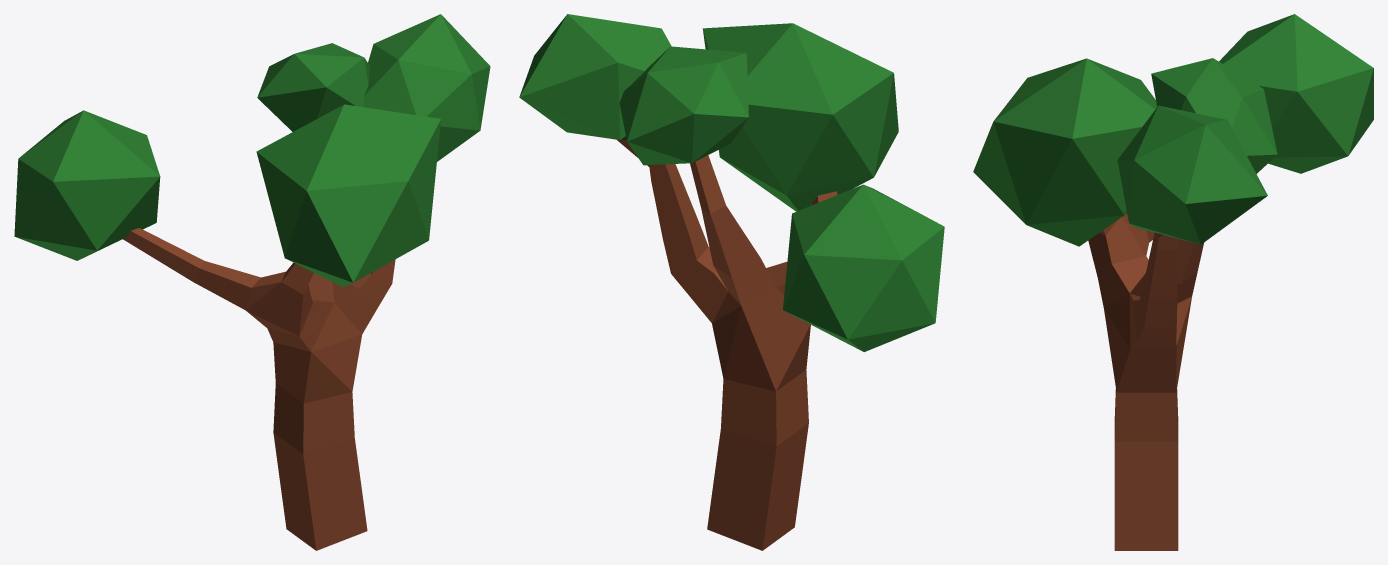
File: LowTree2.glb
3 views of the same model, side by side, from view 1: azimuth 30°, elevation 25°; view 2: azimuth 150°, elevation 25°; view 3: azimuth 270°, elevation 25° (orthographic). The views are drawn at different scales.
Parts seen in each view (by area): view 1: Plane, Icosphere.001, Icosphere, Icosphere.003, Icosphere.002; view 2: Plane, Icosphere.001, Icosphere, Icosphere.002, Icosphere.003; view 3: Plane, Icosphere.001, Icosphere, Icosphere.003, Icosphere.002.
Boxes of the visible parts, bbox=[...] form: Plane: bbox=[123, 228, 395, 550]; Icosphere.001: bbox=[256, 104, 441, 287]; Icosphere: bbox=[14, 110, 160, 260]; Icosphere.003: bbox=[364, 14, 490, 161]; Icosphere.002: bbox=[257, 43, 370, 131]; Plane: bbox=[617, 139, 837, 550]; Icosphere.001: bbox=[702, 23, 898, 211]; Icosphere: bbox=[783, 184, 944, 351]; Icosphere.002: bbox=[619, 46, 748, 165]; Icosphere.003: bbox=[519, 14, 671, 140]; Plane: bbox=[1088, 213, 1204, 550]; Icosphere.001: bbox=[973, 58, 1156, 246]; Icosphere: bbox=[1219, 14, 1373, 173]; Icosphere.003: bbox=[1117, 105, 1267, 244]; Icosphere.002: bbox=[1151, 58, 1277, 173].
Bounding box in the file's own units: 4.1 × 4.29 × 3.15.
